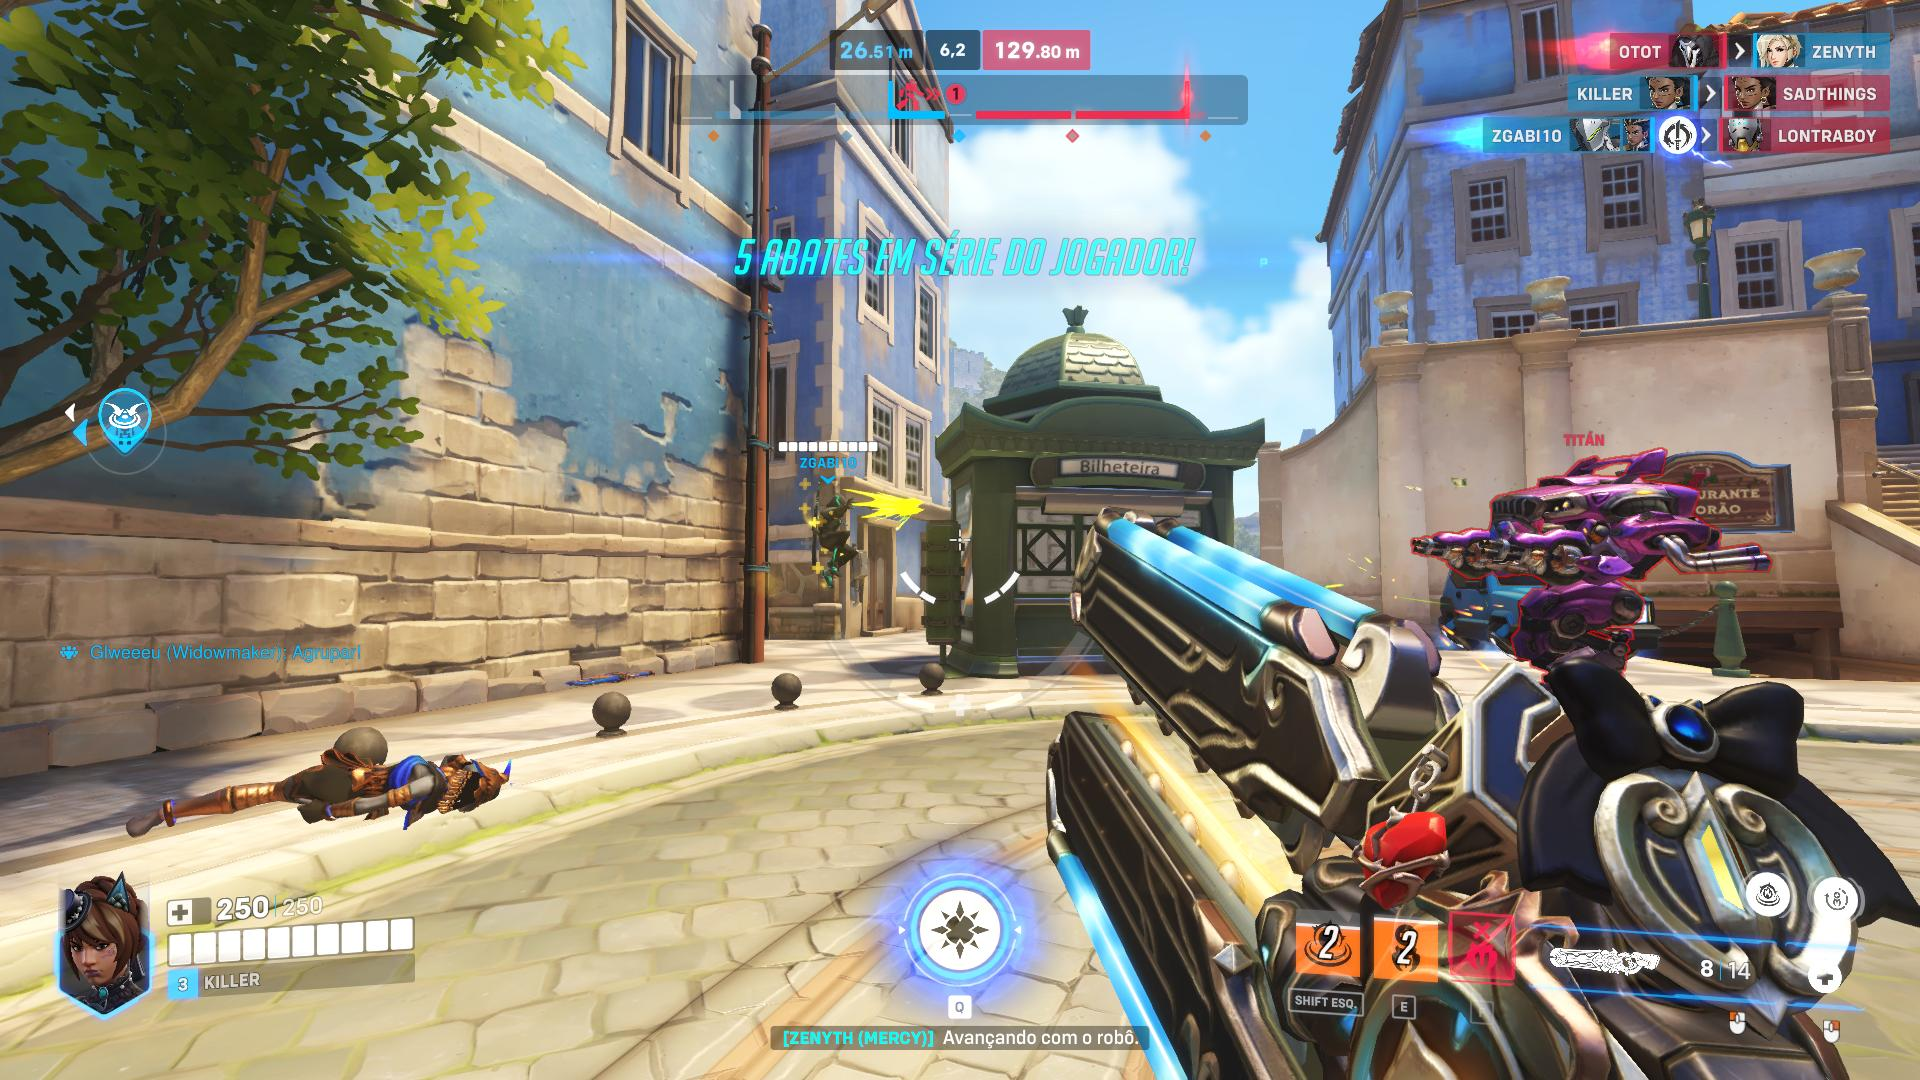enemy: (1481, 447, 1672, 674)
